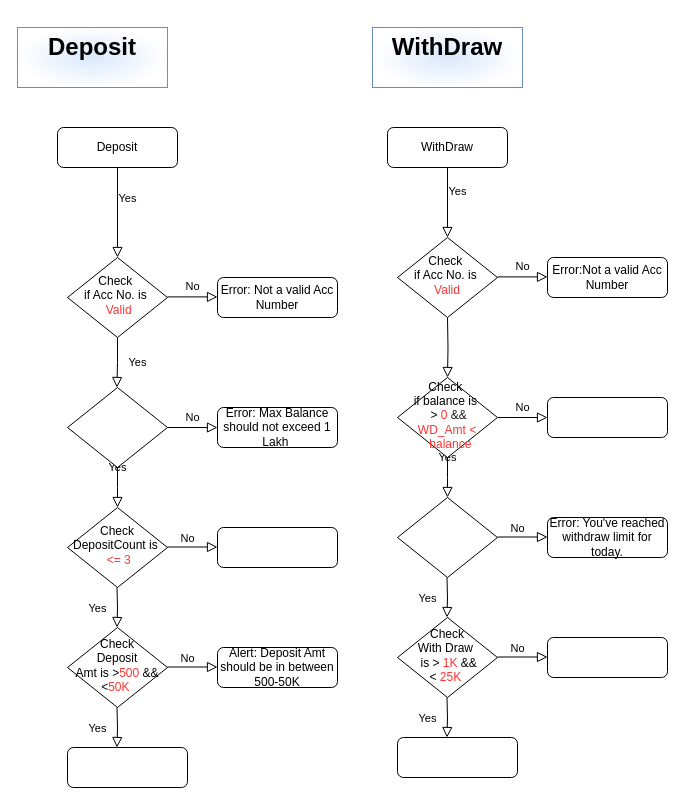
This 685x805 diagram has some shape labels left out. The shapes that lost their labels are listed below. From the top down, each one's centre as x and y in pixels, then its label:
(117,427): Check if balance is < 1,00,000
(607,417): Error: Not enoug credits in your Account
(277,547): Error: You've reached transaction limit for today.
(447,537): Check WithDraw Count is <= 3
(607,657): Alert: WithDraw Amt should be in between 1K - 25K
(127,767): Add amt deposited to Balance and return it.
(457,757): Deduct Amt Withdraw from Balance and return it.
